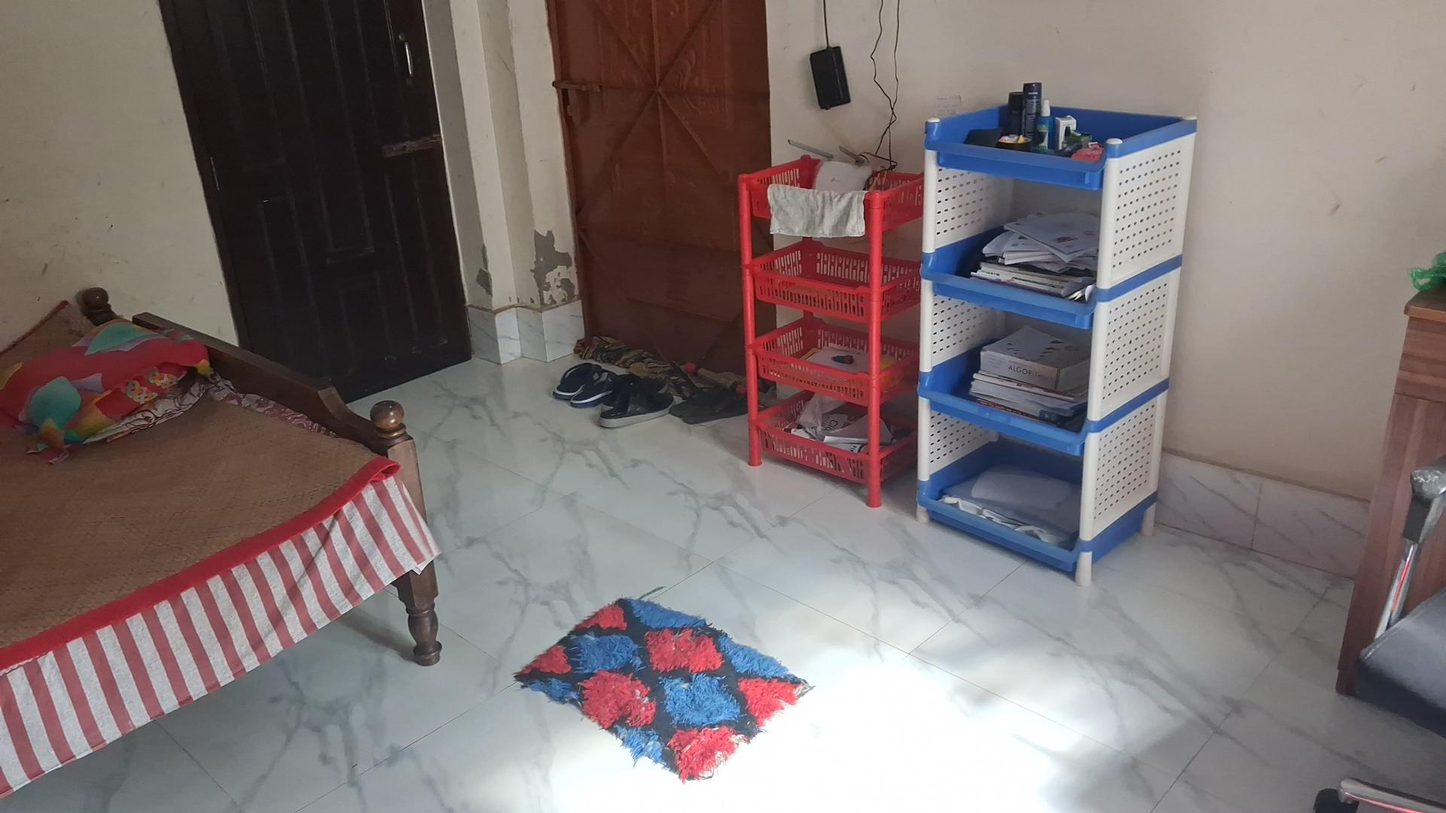Door: (156, 0, 477, 403), (538, 3, 785, 392)
Floor Mat: (512, 590, 807, 785)
Footwear: (600, 377, 676, 428), (550, 361, 625, 404), (670, 388, 752, 425)
Pillow: (3, 325, 210, 439)
Rack: (913, 84, 1194, 579), (741, 146, 925, 503)
